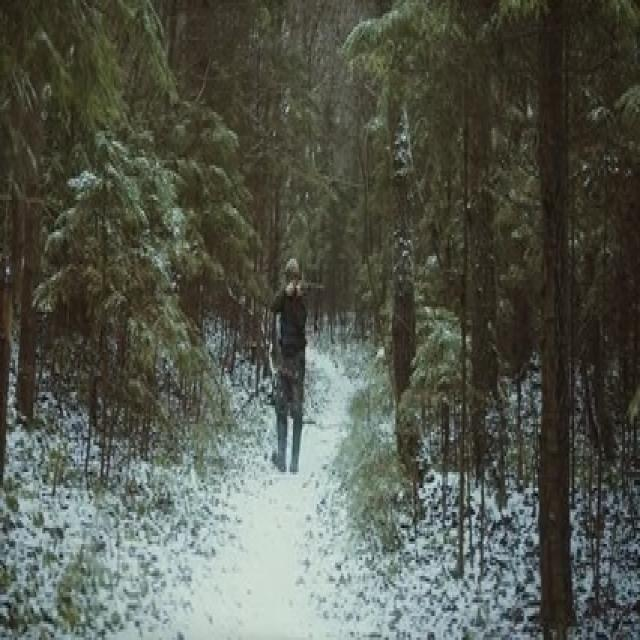Gun_Holder: (290, 278, 328, 298)
Person: (270, 254, 309, 481)
